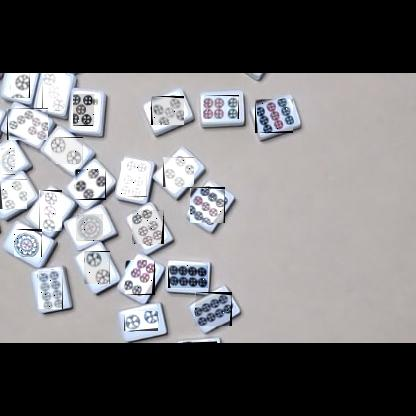1p: (14, 229, 42, 257), (76, 214, 103, 241), (0, 147, 15, 175)
2p: (51, 137, 83, 164), (84, 251, 110, 284), (124, 311, 158, 331), (10, 73, 30, 98)
3p: (39, 190, 62, 231), (42, 73, 65, 110), (179, 341, 217, 343)
4p: (75, 169, 106, 200), (163, 157, 194, 187), (0, 179, 27, 209)
5p: (151, 96, 184, 125), (74, 94, 98, 126)
6p: (132, 210, 164, 244), (125, 260, 155, 295), (121, 161, 147, 197), (203, 95, 239, 119)
7p: (7, 108, 48, 140)
8p: (195, 292, 232, 326), (38, 270, 63, 309), (168, 265, 208, 288)
9p: (255, 99, 293, 133), (190, 187, 225, 223)
